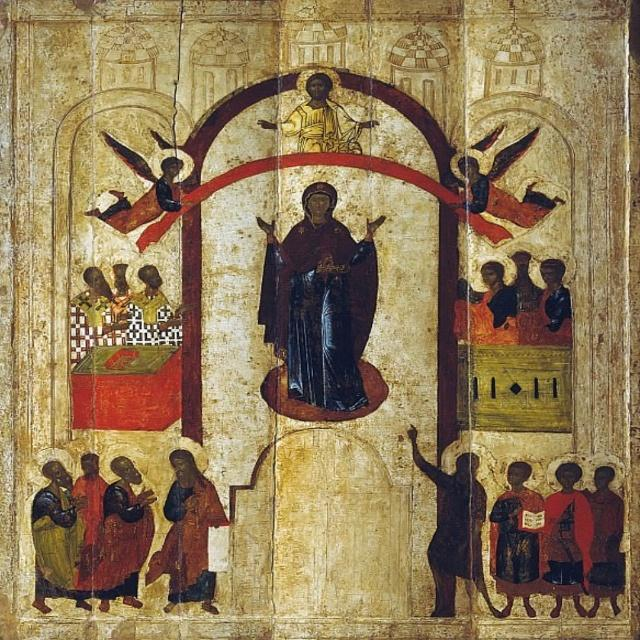angel: (72, 120, 200, 246), (451, 117, 570, 234)
apostle: (126, 247, 181, 348), (67, 255, 113, 363), (104, 252, 141, 348)
aura: (436, 438, 501, 486), (151, 432, 208, 486), (26, 444, 76, 494), (99, 442, 152, 488), (466, 251, 518, 296), (530, 248, 579, 292), (498, 451, 546, 494), (544, 454, 591, 492), (125, 258, 171, 296), (588, 452, 626, 494), (74, 259, 113, 298), (108, 256, 141, 302), (152, 146, 193, 183), (298, 69, 341, 102), (451, 148, 489, 184)
book: (518, 508, 549, 534)
christ: (264, 65, 376, 156)
christ_face: (304, 72, 331, 103)
christ_hand: (254, 114, 281, 136)
church: (469, 1, 560, 117), (74, 2, 179, 101), (386, 6, 456, 131), (186, 4, 254, 107), (280, 1, 352, 69)
mary: (254, 174, 398, 424)
saint: (399, 421, 496, 628), (149, 417, 232, 614), (92, 436, 155, 617), (489, 442, 542, 624), (28, 437, 76, 622), (544, 449, 592, 620), (586, 444, 627, 620), (531, 238, 578, 346), (495, 241, 541, 346), (69, 441, 114, 532), (469, 247, 509, 341)
wing: (488, 124, 548, 184), (97, 129, 160, 186), (472, 120, 507, 149), (149, 125, 174, 148)
